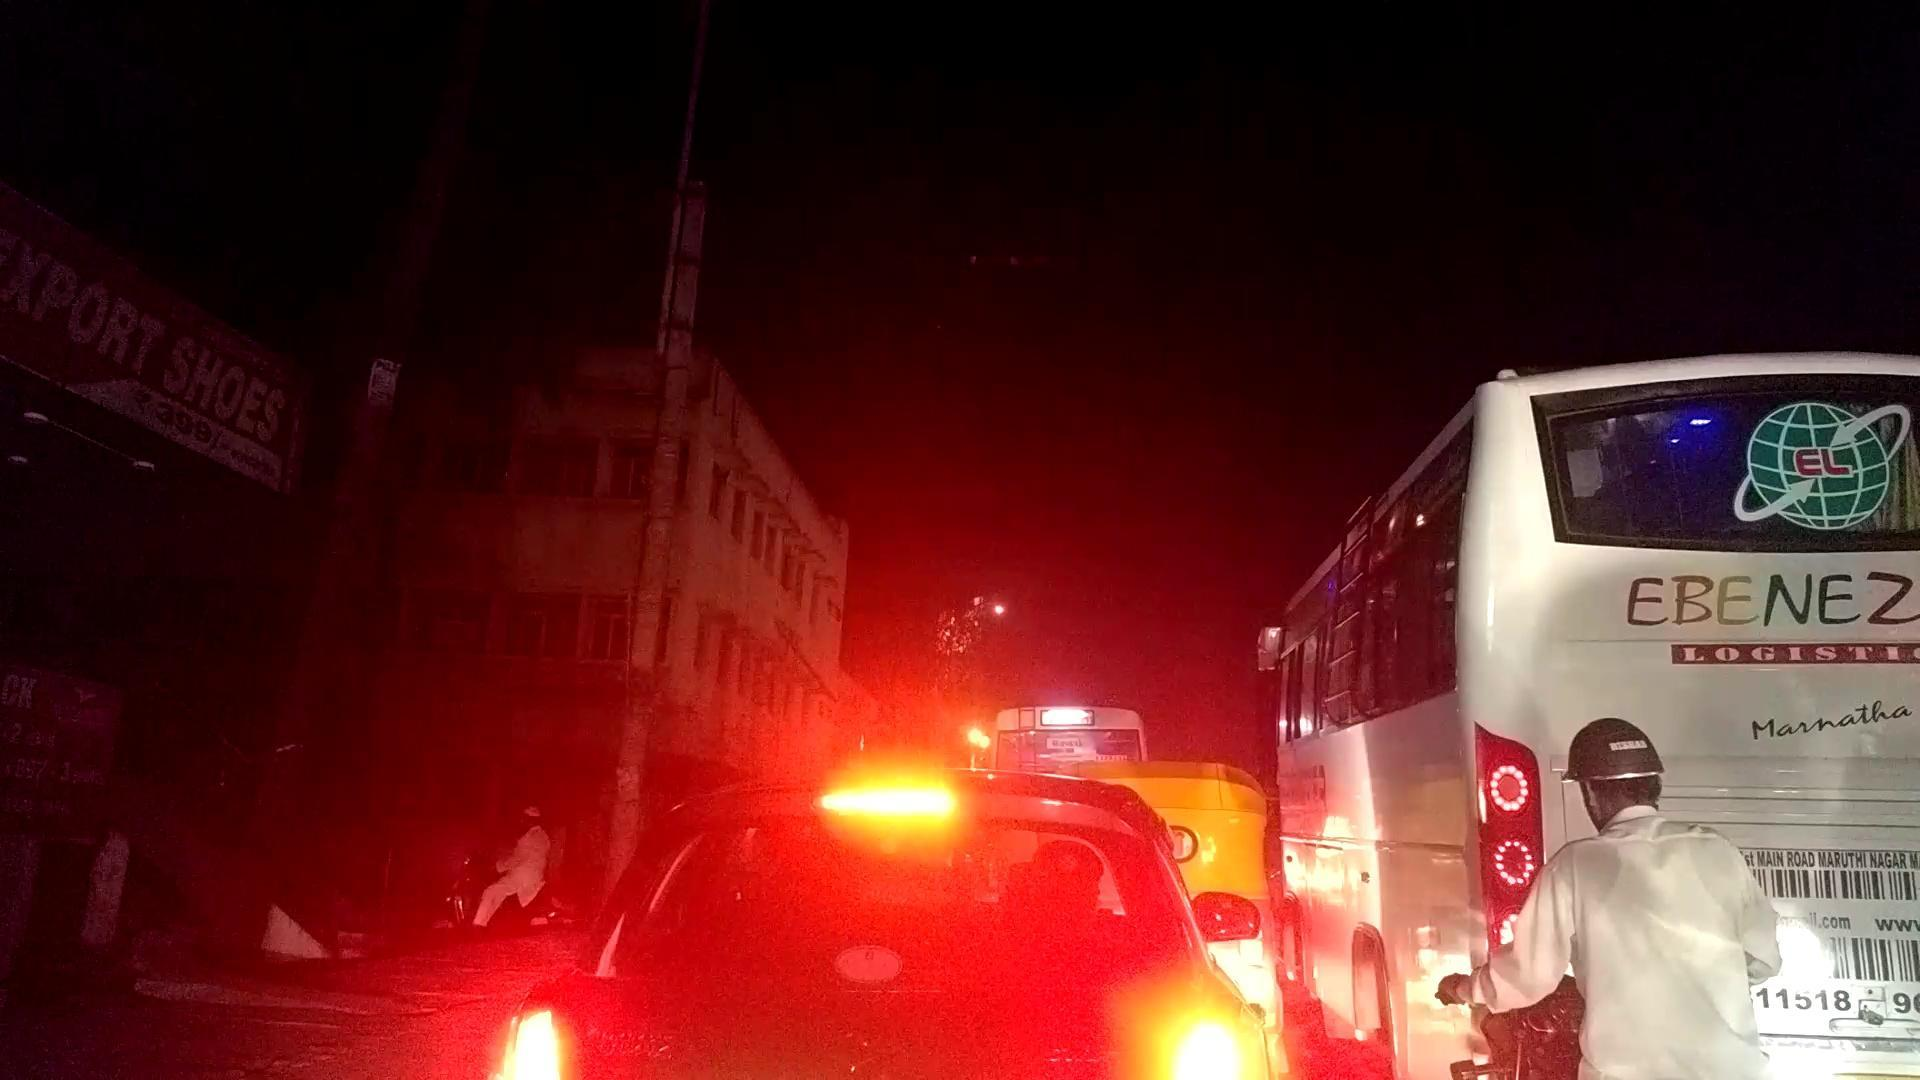on: (960, 402, 1702, 1080)
